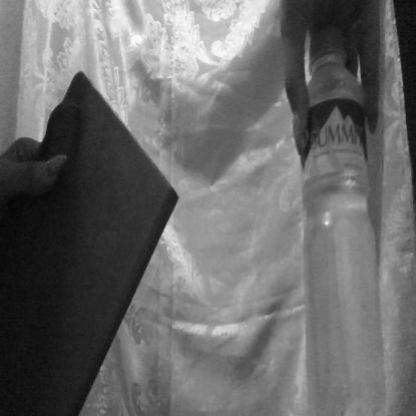Plastic Bottle: (277, 40, 397, 408)
